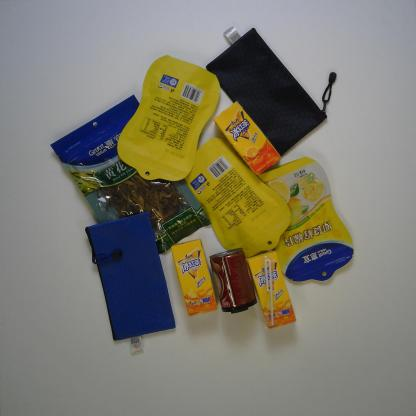Canned Food: (209, 248, 257, 315)
Dried Food: (49, 94, 212, 257)
Dried Fruit: (116, 54, 222, 183), (179, 136, 291, 258), (255, 156, 354, 283)
Drink: (212, 101, 281, 177), (247, 249, 297, 330), (171, 239, 218, 316)
Stationery: (204, 25, 338, 157), (84, 211, 176, 355)
